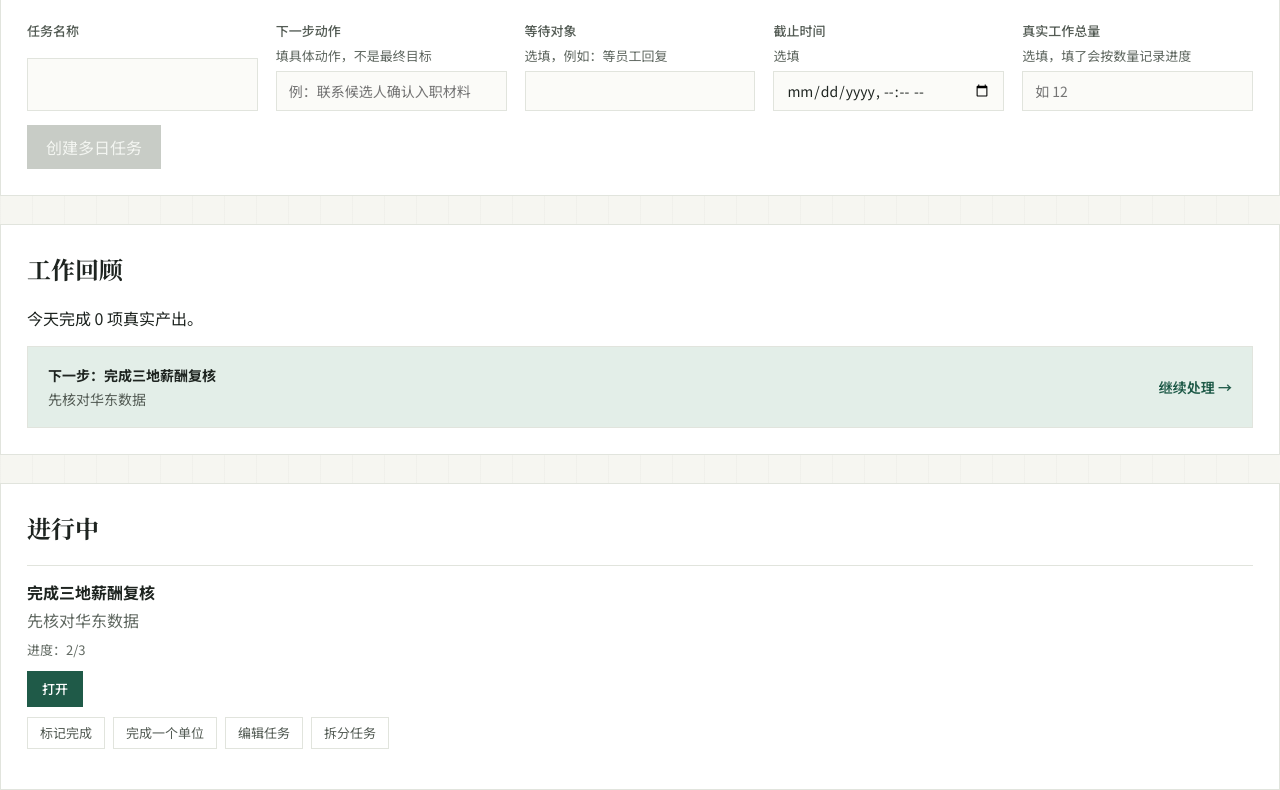
Scenario: surfaces the real API error when saving fails
The image size is (1280, 790).
(page scrolled)
Click the button "完成一个单位".
click(165, 732)  # box [113,716,217,748]
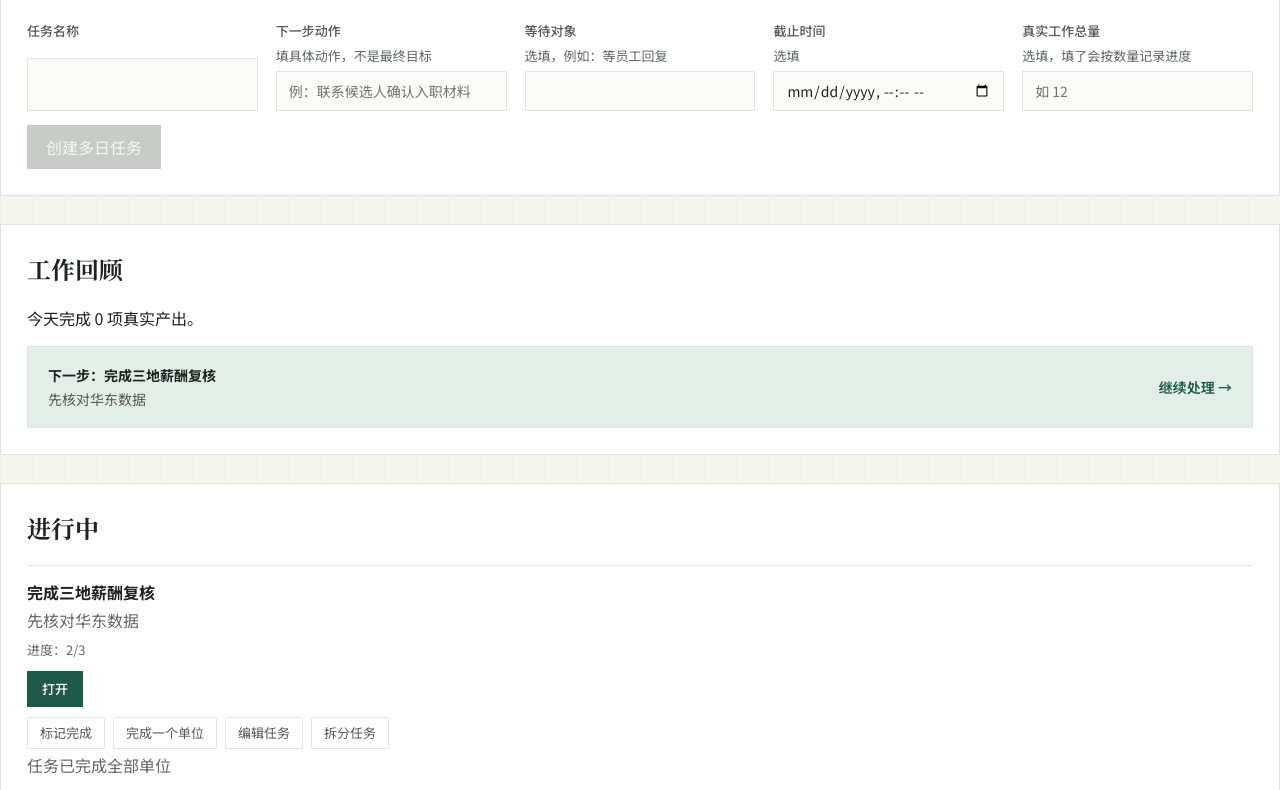
Now the text "任务已完成全部单位" is shown, box [27,752,171,776]
